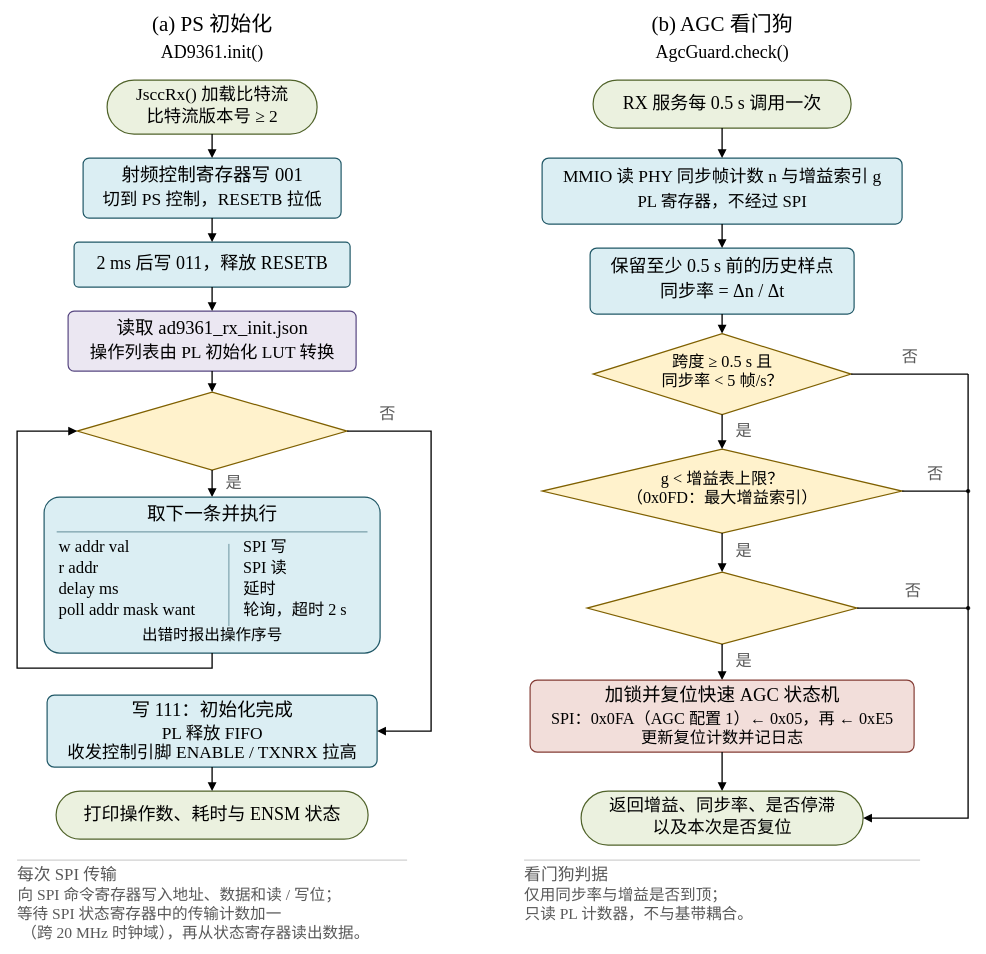
Some shapes in this 986 by 954 pixel diagram are drawn without their labels. Each missing label, with the centre of its shape:
距上次复位 > 3 s ？: the point at 721,607
还有未执行操作？: the point at 211,430
